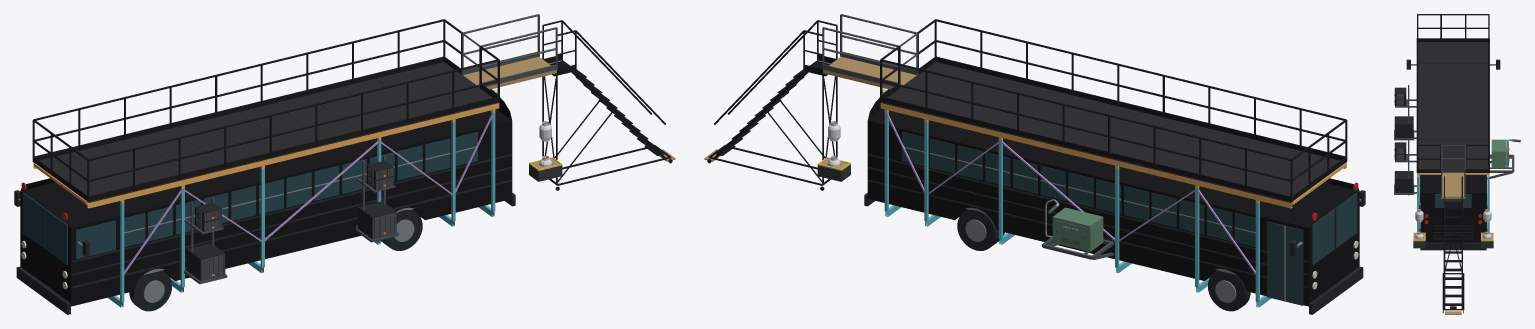
The model's file is baaabs-subframe-study-v3.glb.
3 views of the same model, side by side, from view 1: azimuth 30°, elevation 25°; view 2: azimuth 150°, elevation 25°; view 3: azimuth 270°, elevation 25° (orthographic). The views are drawn at different scales.
Parts seen in each view (by area): view 1: Bus__Body_96in_wide, Toe_board_-1, Bus__Roof_126in_high, Toe_board_1, Dancefloor_section_11, Dancefloor_section_08, Dancefloor_section_04, Dancefloor_section_05, Dancefloor_section_10, Dancefloor_section_06, Dancefloor_section_12, Dancefloor_section_07 (+40 smaller); view 2: Bus__Body_96in_wide, Bus__Entrance_door, Toe_board_1, Toe_board_-1, Bus__Roof_126in_high, Dancefloor_section_11, Dancefloor_section_08, Dancefloor_section_04, Dancefloor_section_05, Dancefloor_section_10, Dancefloor_section_06, Dancefloor_section_12 (+42 smaller); view 3: Bus__Body_96in_wide, Bus__Rear_engine_hatch, Dancefloor_section_02, Dancefloor_section_04, Dancefloor_section_05, Dancefloor_section_03, Dancefloor_section_11, Dancefloor_section_01, Dancefloor_section_06, Dancefloor_section_07, Dancefloor_section_08, Dancefloor_section_09 (+22 smaller).
Part boxes in pixels (x1,y1,x2,y2): Bus__Body_96in_wide: (20,109,512,306); Toe_board_-1: (89,96,498,201); Bus__Roof_126in_high: (20,89,511,226); Toe_board_1: (34,57,443,160); Dancefloor_section_11: (376,70,465,119); Dancefloor_section_08: (273,95,362,144); Dancefloor_section_04: (137,128,225,177); Dancefloor_section_05: (171,120,259,169); Dancefloor_section_10: (342,78,430,127); Dancefloor_section_06: (205,112,294,161); Dancefloor_section_12: (410,62,499,110); Dancefloor_section_07: (239,103,328,152); Bus__Body_96in_wide: (867,109,1359,306); Bus__Entrance_door: (1267,221,1303,305); Toe_board_1: (881,96,1290,201); Toe_board_-1: (936,57,1345,160); Bus__Roof_126in_high: (868,89,1359,226); Dancefloor_section_11: (914,70,1003,119); Dancefloor_section_08: (1017,95,1106,144); Dancefloor_section_04: (1154,128,1242,177); Dancefloor_section_05: (1120,120,1208,169); Dancefloor_section_10: (949,78,1037,127); Dancefloor_section_06: (1085,112,1174,161); Dancefloor_section_12: (880,62,969,110); Bus__Body_96in_wide: (1420,175,1486,242); Bus__Rear_engine_hatch: (1429,220,1477,242); Dancefloor_section_02: (1416,52,1489,63); Dancefloor_section_04: (1416,74,1489,85); Dancefloor_section_05: (1416,85,1489,96); Dancefloor_section_03: (1416,63,1489,74); Dancefloor_section_11: (1416,150,1489,161); Dancefloor_section_01: (1416,42,1489,52); Dancefloor_section_06: (1416,96,1489,106); Dancefloor_section_07: (1416,107,1489,117); Dancefloor_section_08: (1416,118,1489,128); Dancefloor_section_09: (1416,129,1489,139).
Size of what is drawn, in the model's own units: 17.42 by 4.53 by 4.67.
